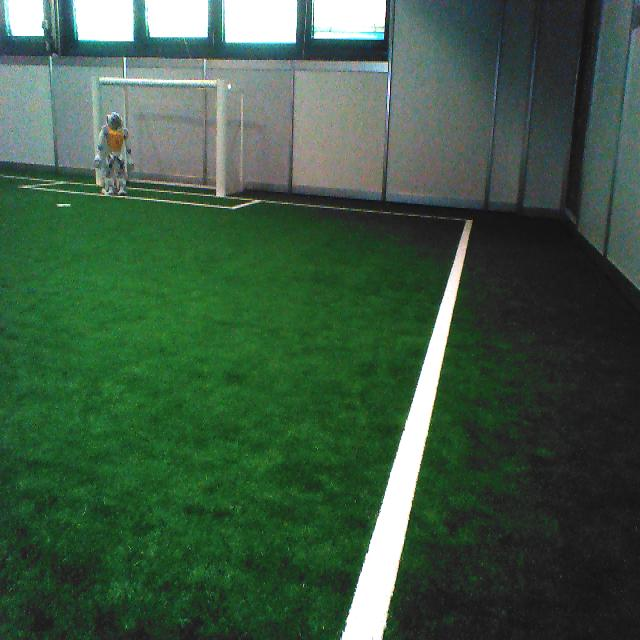goalpost: (214, 77, 228, 196), (90, 77, 105, 184)
